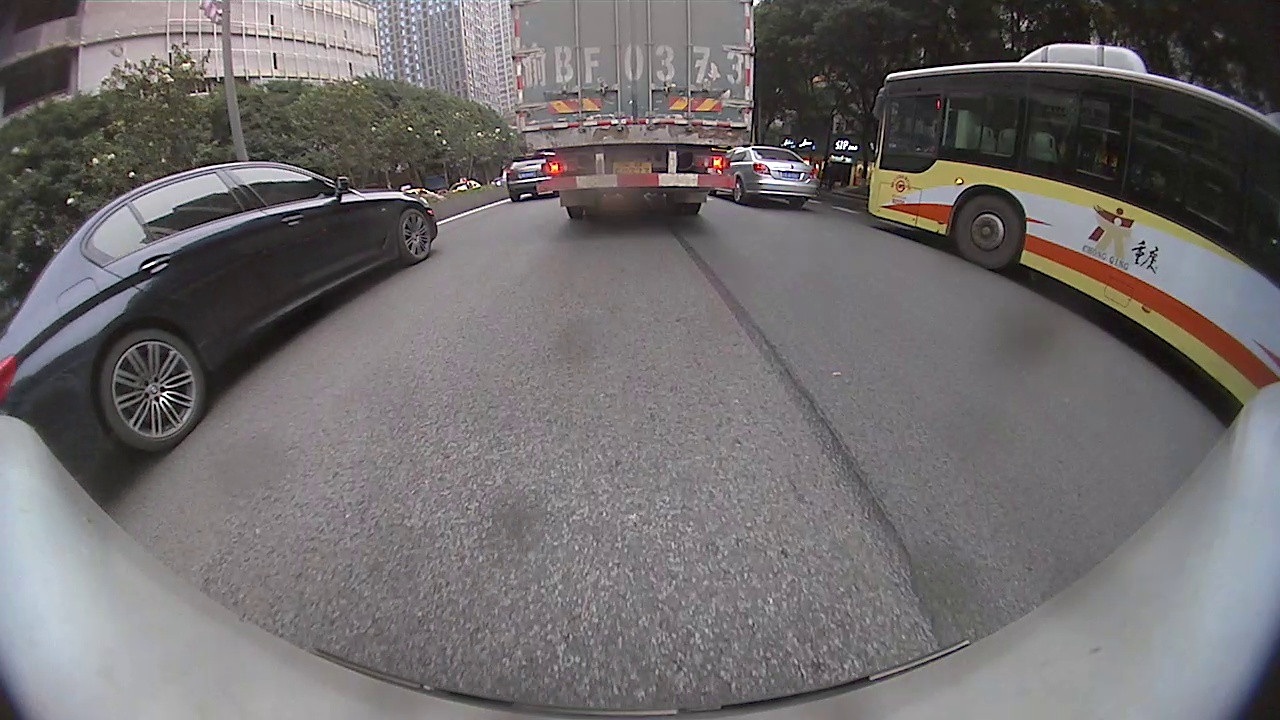bus: (863, 43, 1277, 409)
car: (2, 164, 441, 493), (714, 147, 820, 211), (506, 151, 562, 197)
front: (952, 189, 1026, 271), (397, 206, 431, 264)
rear: (94, 325, 212, 457), (732, 179, 746, 204)
truck: (507, 2, 755, 222)
